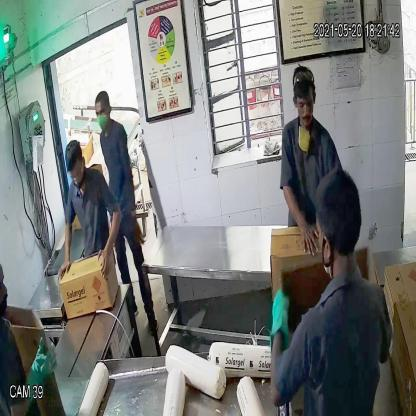no_goggles: (293, 93, 316, 112)
